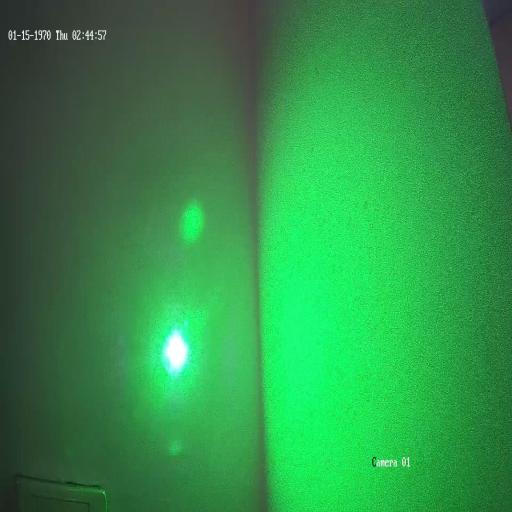laser: (156, 317, 196, 384)
